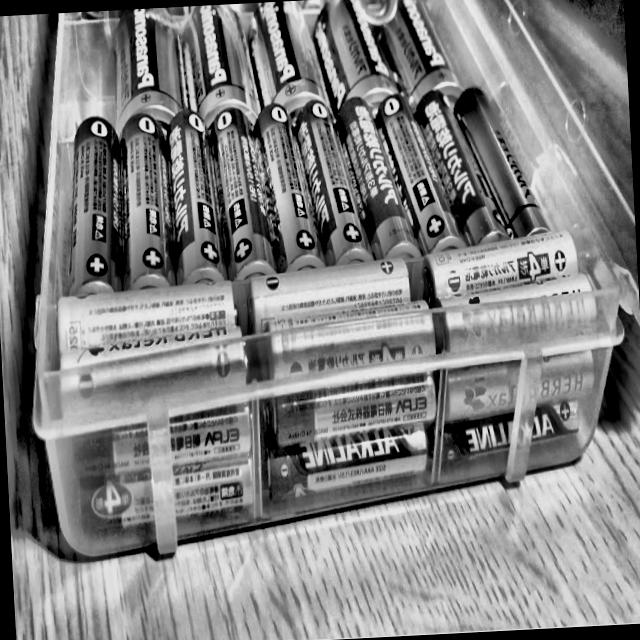drycell: (455, 77, 558, 248), (409, 84, 514, 248)
